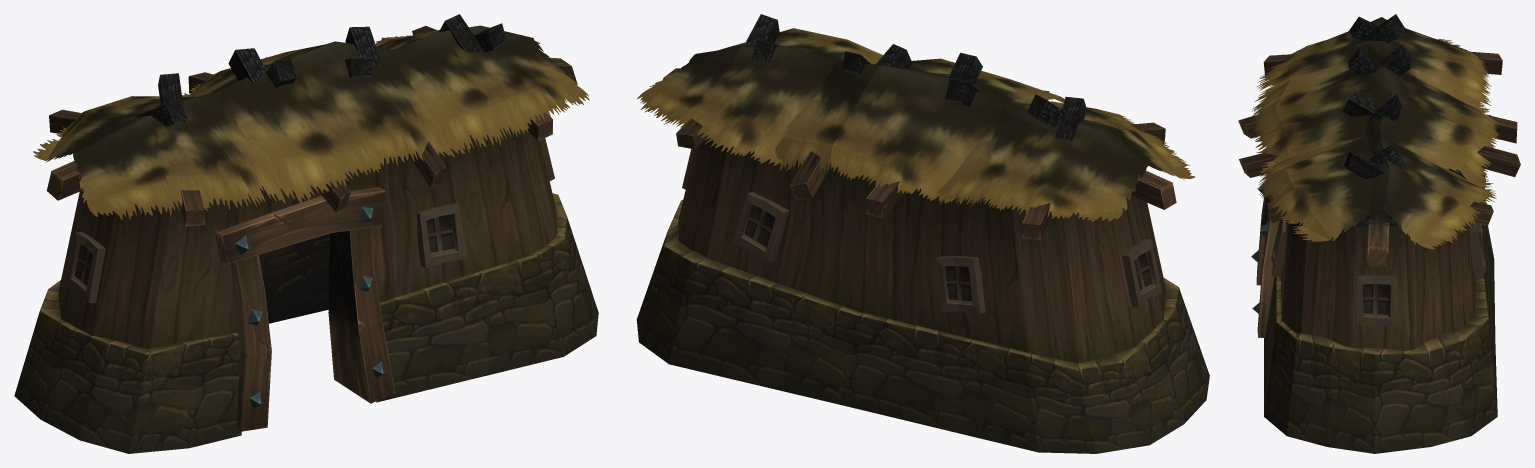
File: bandit_hut_burn_02.fbx
3 renders of one model, left to right at view 1: azimuth 30°, elevation 25°; view 2: azimuth 150°, elevation 25°; view 3: azimuth 270°, elevation 25°, orthographic. The views are drawn at different scales.
Parts seen in each view (by area): view 1: obj4.003; view 2: obj4.003; view 3: obj4.003.
Part boxes in pixels (box(x1,y1,x2,y2)): obj4.003: box(14, 14, 598, 453); obj4.003: box(636, 14, 1209, 453); obj4.003: box(1238, 14, 1520, 453).
Bounding box in the file's own units: 10.89 × 5.97 × 5.67.
